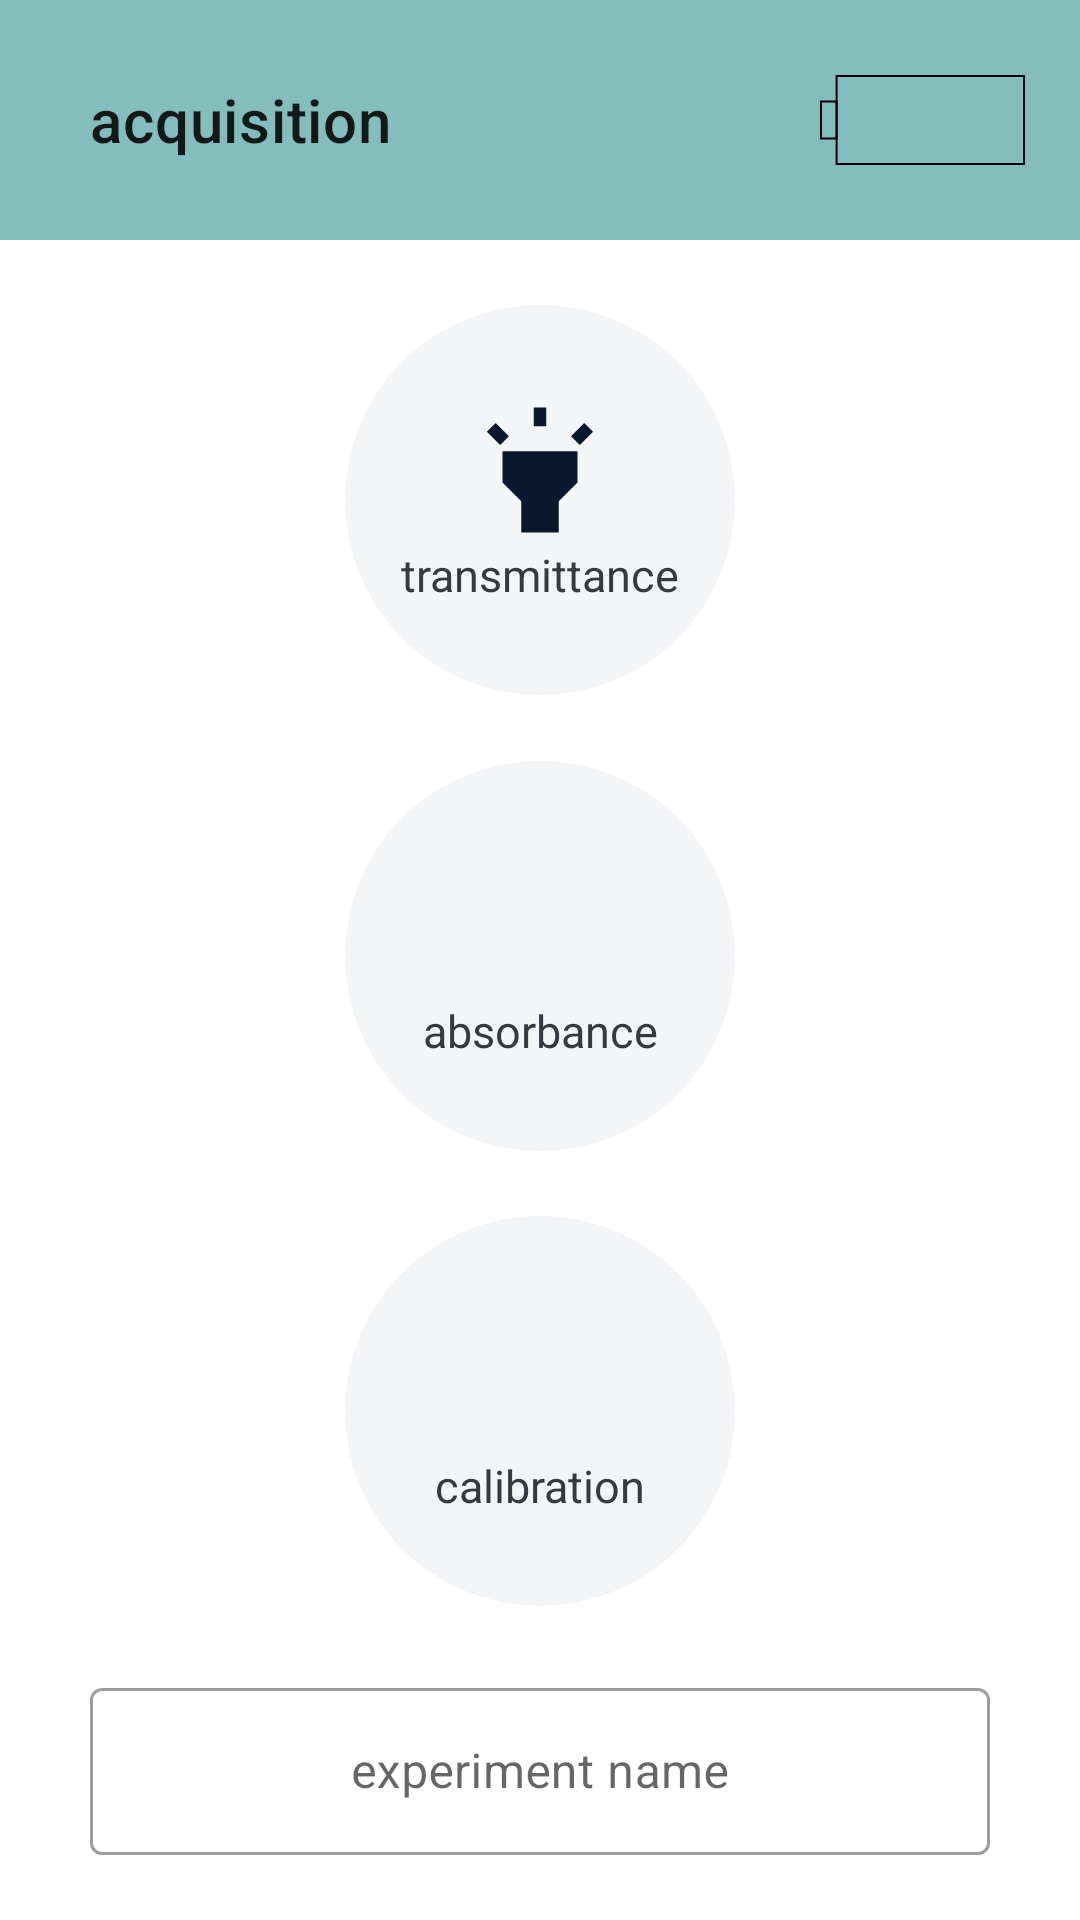

Icon click points for this 1080w x 1920h phone screenshot, format point (x, y):
battery level: point (922, 120)
